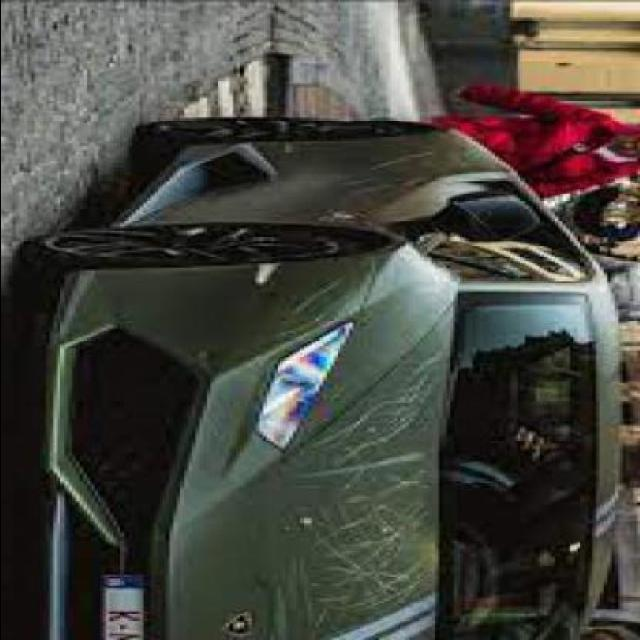bonnet-dent: (187, 285, 468, 638)
